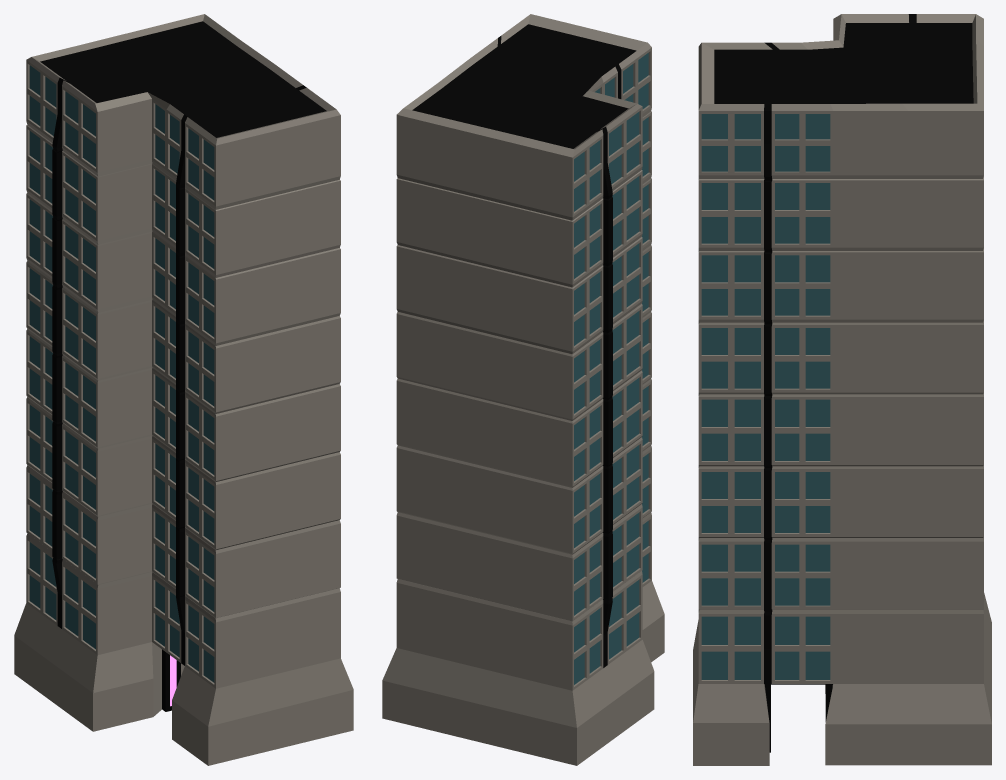
The model's file is 2COMBUSTIONATIONB( (2).fbx.
The picture shows the model from 3 angles, left to right: view 1: azimuth 30°, elevation 25°; view 2: azimuth 150°, elevation 25°; view 3: azimuth 270°, elevation 25°; orthographic projection. The views are drawn at different scales.
Visible parts, largest first — view 1: Cube; view 2: Cube; view 3: Cube.
Part boxes in pixels (bbox=[...]): Cube: bbox=[14, 14, 353, 765]; Cube: bbox=[382, 14, 664, 765]; Cube: bbox=[693, 14, 991, 765].
Size of the model in its own units: 550 by 1646 by 680.
